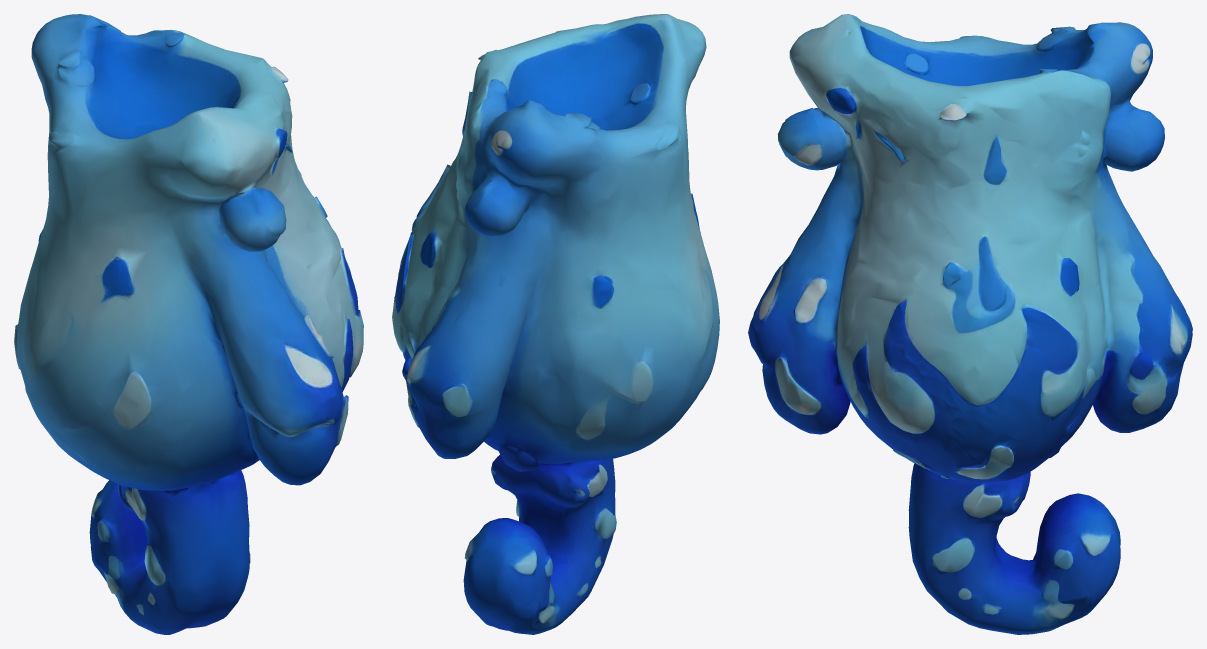
File: body.glb
The picture shows the model from 3 angles, left to right: view 1: azimuth 30°, elevation 25°; view 2: azimuth 150°, elevation 25°; view 3: azimuth 270°, elevation 25°; orthographic projection. The views are drawn at different scales.
Parts seen in each view (by area): view 1: tripo_node_1b15ef92-f635-45be-9868-75fc65481028; view 2: tripo_node_1b15ef92-f635-45be-9868-75fc65481028; view 3: tripo_node_1b15ef92-f635-45be-9868-75fc65481028.
Part boxes in pixels (x1,y1,x2,y2): tripo_node_1b15ef92-f635-45be-9868-75fc65481028: (14, 14, 363, 634); tripo_node_1b15ef92-f635-45be-9868-75fc65481028: (392, 14, 719, 634); tripo_node_1b15ef92-f635-45be-9868-75fc65481028: (748, 14, 1192, 634).
Size of the model in its own units: 0.5511 by 1 by 0.6852.
Materials: 1 (1 with a texture image).
